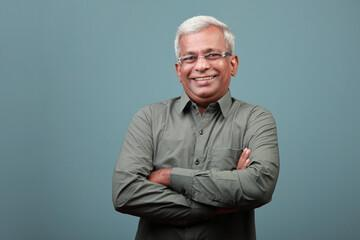Human: (107, 15, 287, 235)
